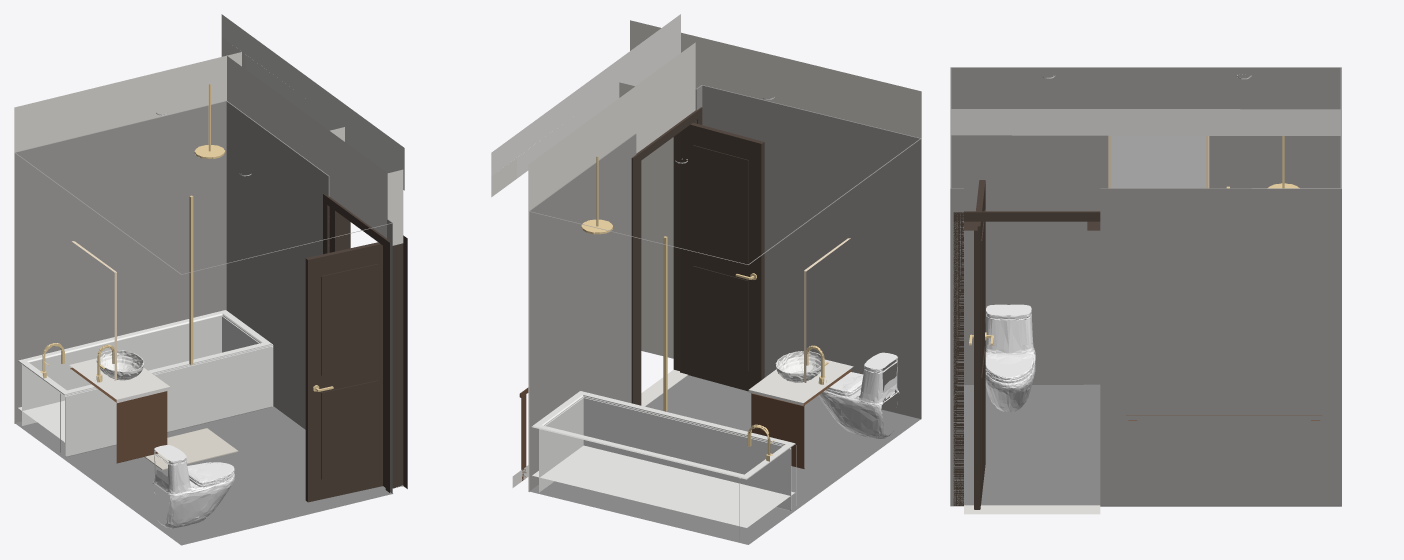
The model's file is BATH3.glb.
3 renders of one model, left to right at view 1: azimuth 30°, elevation 25°; view 2: azimuth 150°, elevation 25°; view 3: azimuth 270°, elevation 25°, orthographic. The views are drawn at different scales.
Visible parts, largest first — view 1: WEB_BATH3; view 2: WEB_BATH3; view 3: WEB_BATH3.
Part boxes in pixels (left/top/right/bottom): WEB_BATH3: left=14, top=14, right=407, bottom=545; WEB_BATH3: left=491, top=14, right=921, bottom=544; WEB_BATH3: left=950, top=67, right=1341, bottom=514.
Size of the model in its own units: 2.61 by 3 by 3.01.
